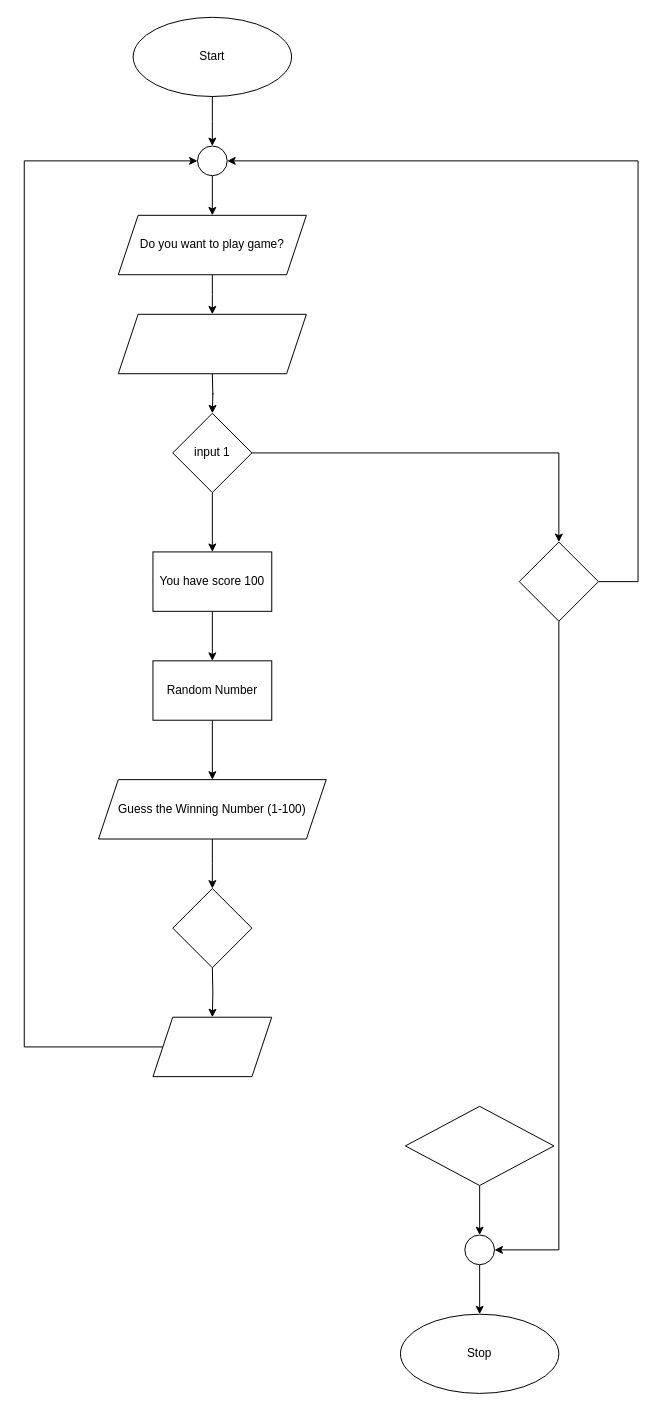
This 663x1411 diagram has some shape labels left out. Here are the shapes that lost their labels. From the top down, the centre of each, then its label:
At (211,343): "input Number".
At (558,581): "input -1".
At (212,1046): "Show score".
At (479,1145): "restart = 1 exit = -1".
